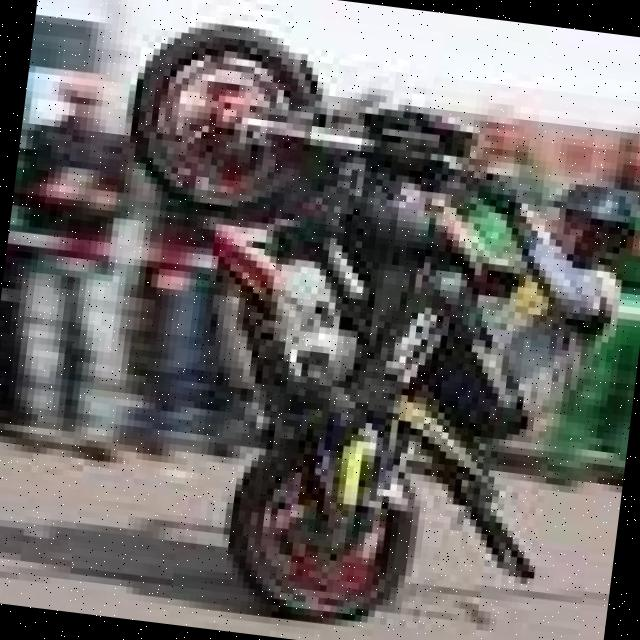Wheeling: (82, 9, 640, 640)
